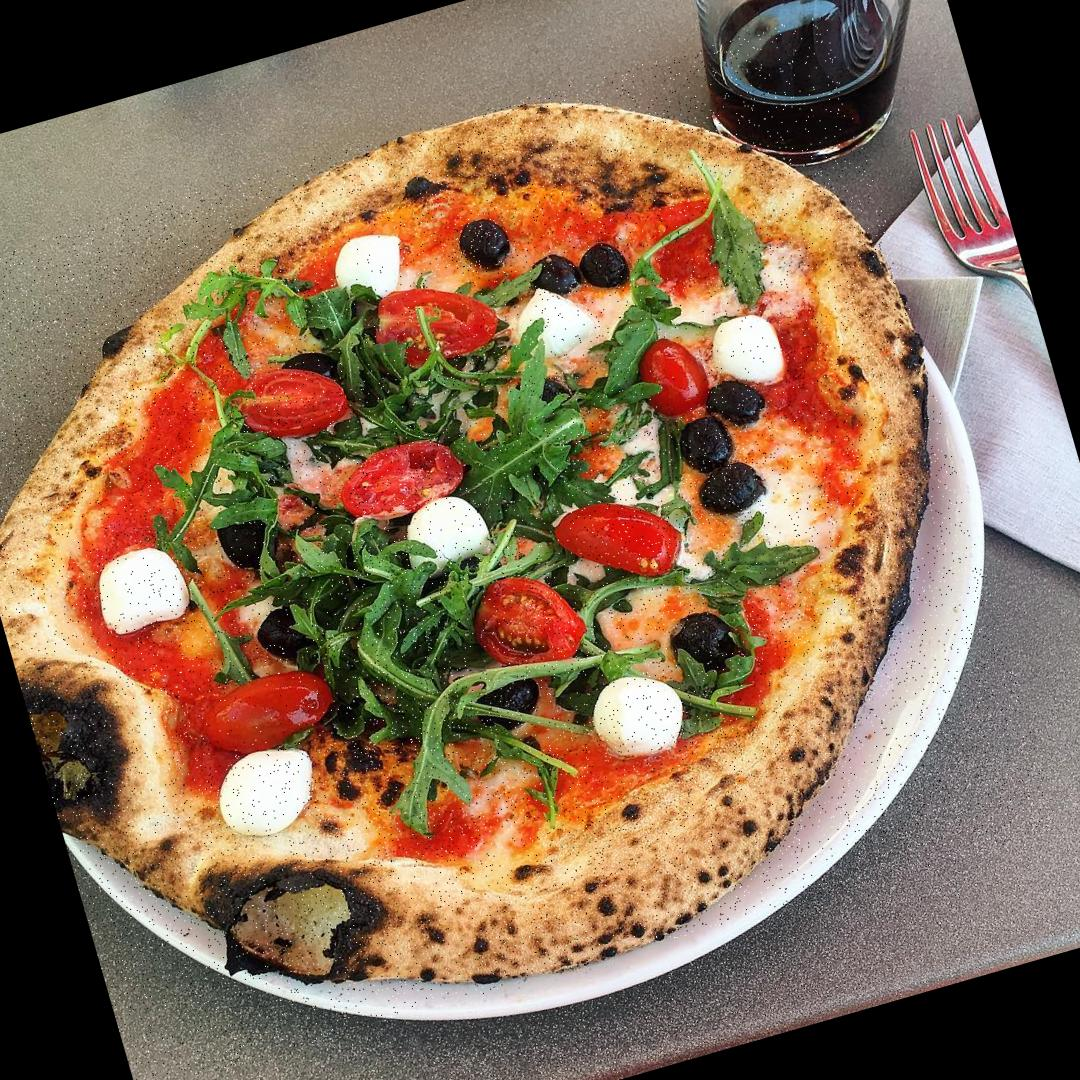Arugula: (293, 522, 478, 767), (320, 292, 410, 454), (470, 408, 596, 520)
Cheese: (208, 741, 326, 841), (584, 664, 696, 769), (85, 542, 191, 636), (400, 488, 498, 570), (706, 309, 791, 395), (507, 278, 596, 357), (326, 228, 411, 310)
Olives: (529, 235, 634, 305), (466, 670, 548, 739), (666, 606, 742, 676), (692, 458, 769, 524), (252, 602, 320, 670), (214, 510, 282, 574), (452, 214, 516, 276), (704, 374, 769, 430), (680, 414, 738, 474)
Pizza: (0, 10, 1059, 1080)
Tomatoes: (551, 484, 693, 601), (464, 562, 592, 684), (194, 662, 342, 762), (370, 270, 502, 374), (330, 428, 472, 524), (230, 349, 354, 448), (633, 330, 712, 420)
